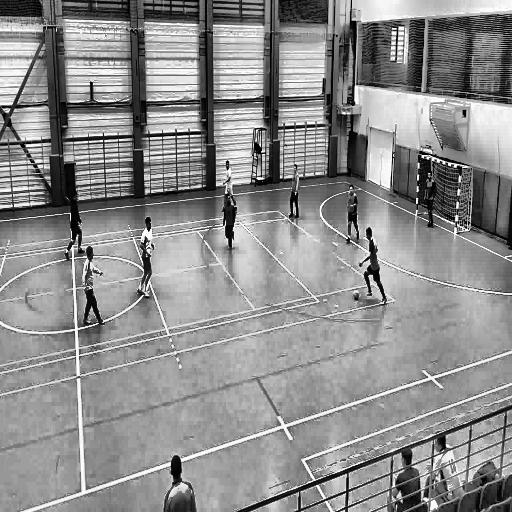ball: (352, 286, 362, 304)
player: (359, 228, 387, 307), (81, 242, 106, 328), (64, 188, 84, 261), (138, 216, 155, 297), (345, 184, 361, 243), (423, 165, 437, 231), (222, 157, 237, 212), (223, 194, 236, 254), (288, 163, 300, 220)
